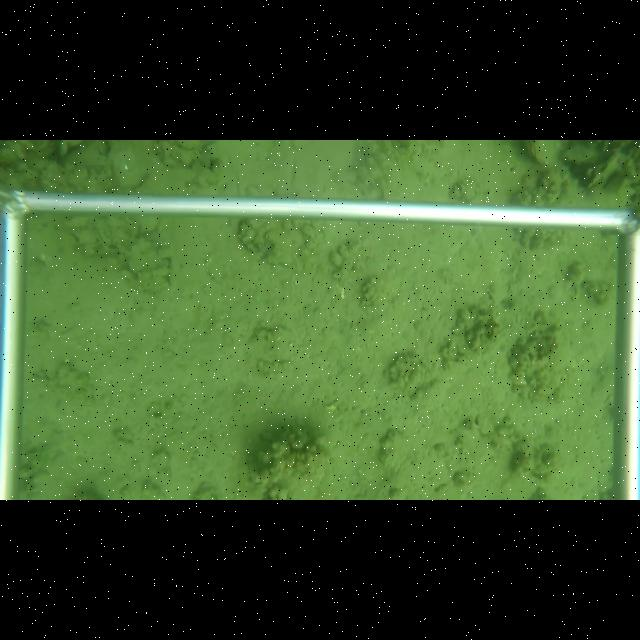Oyster-Closed: (584, 147, 628, 191), (520, 141, 561, 167)
